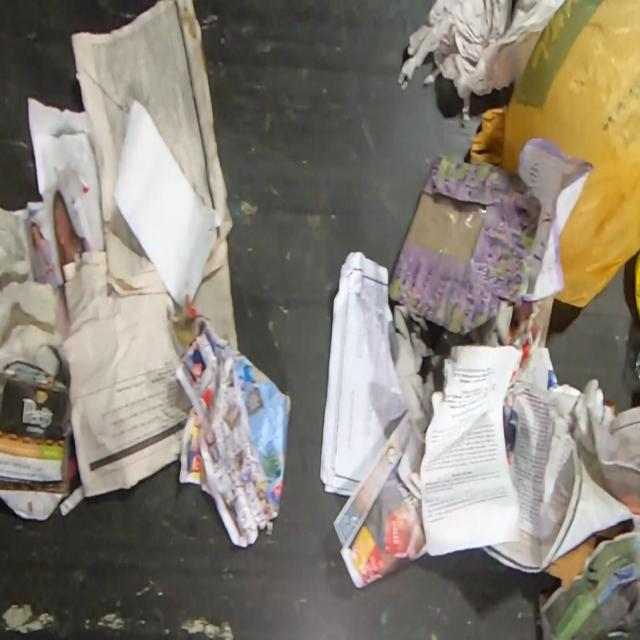cardboard: (388, 153, 541, 335), (546, 530, 610, 585)
soft_plastic: (470, 0, 640, 310)
